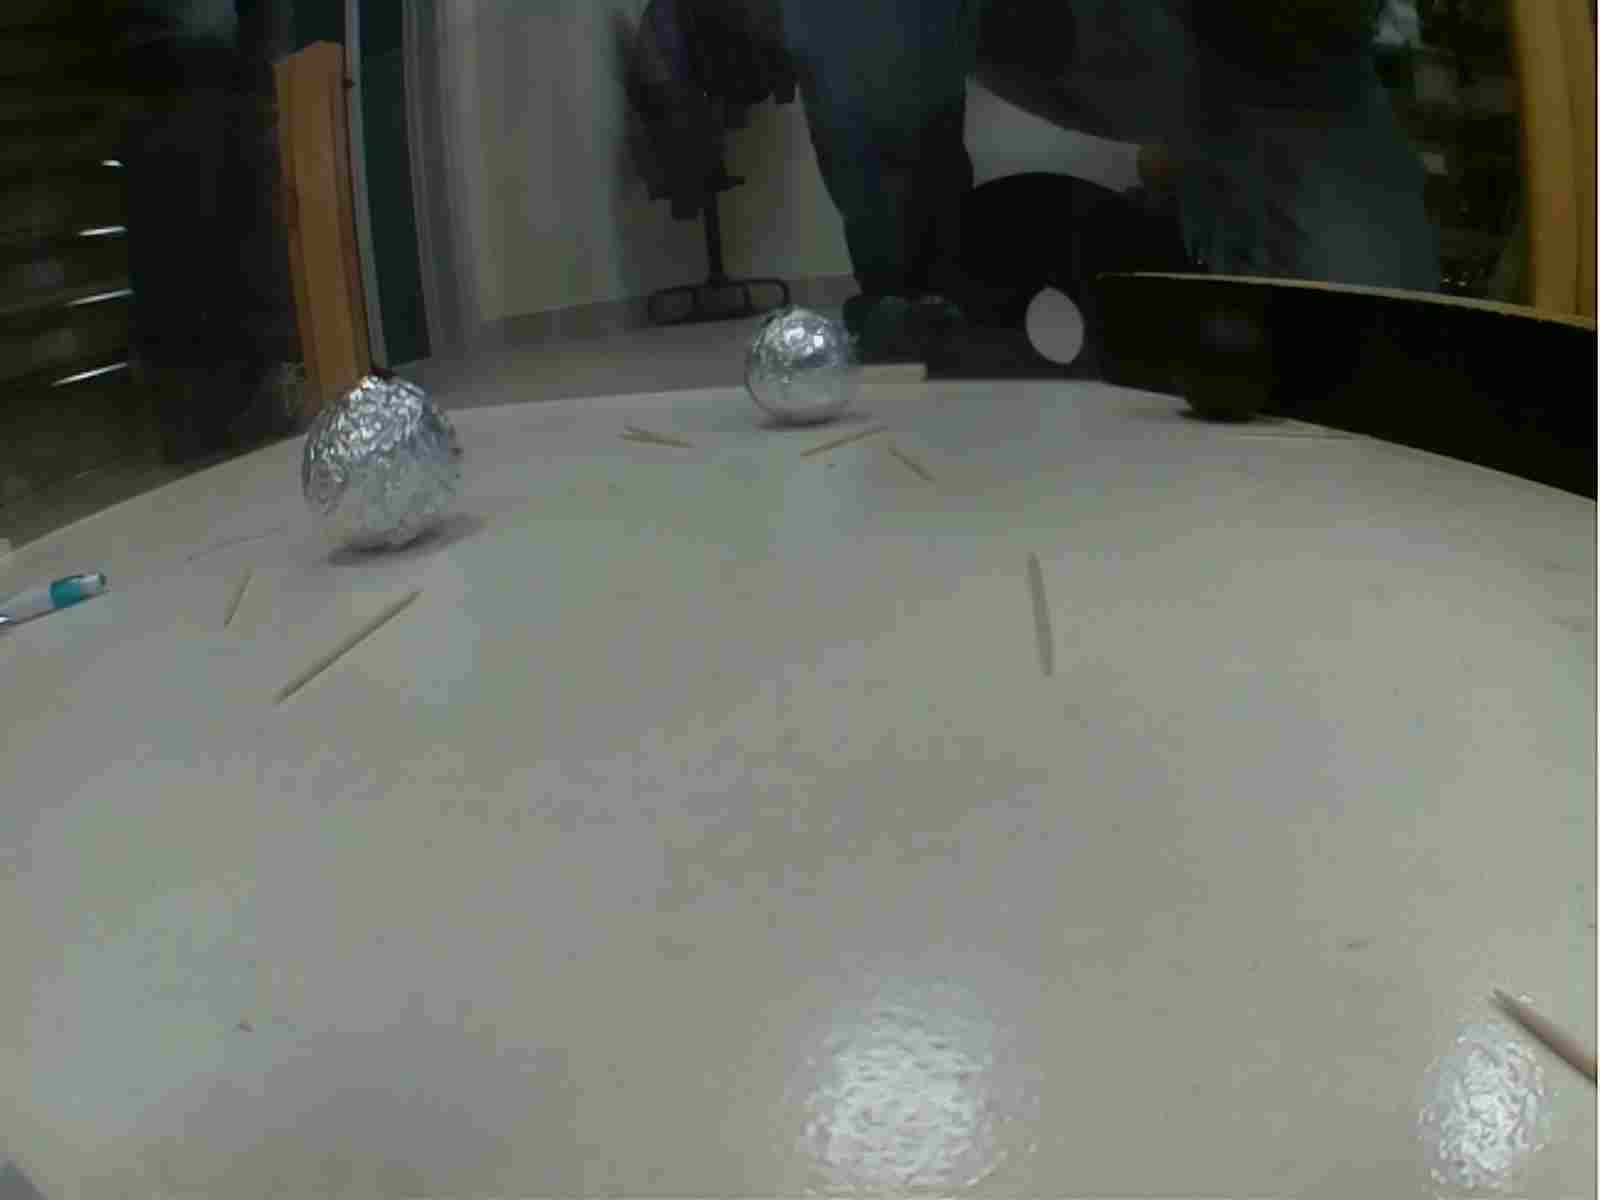nera: (295, 372, 470, 552), (740, 308, 863, 434)
